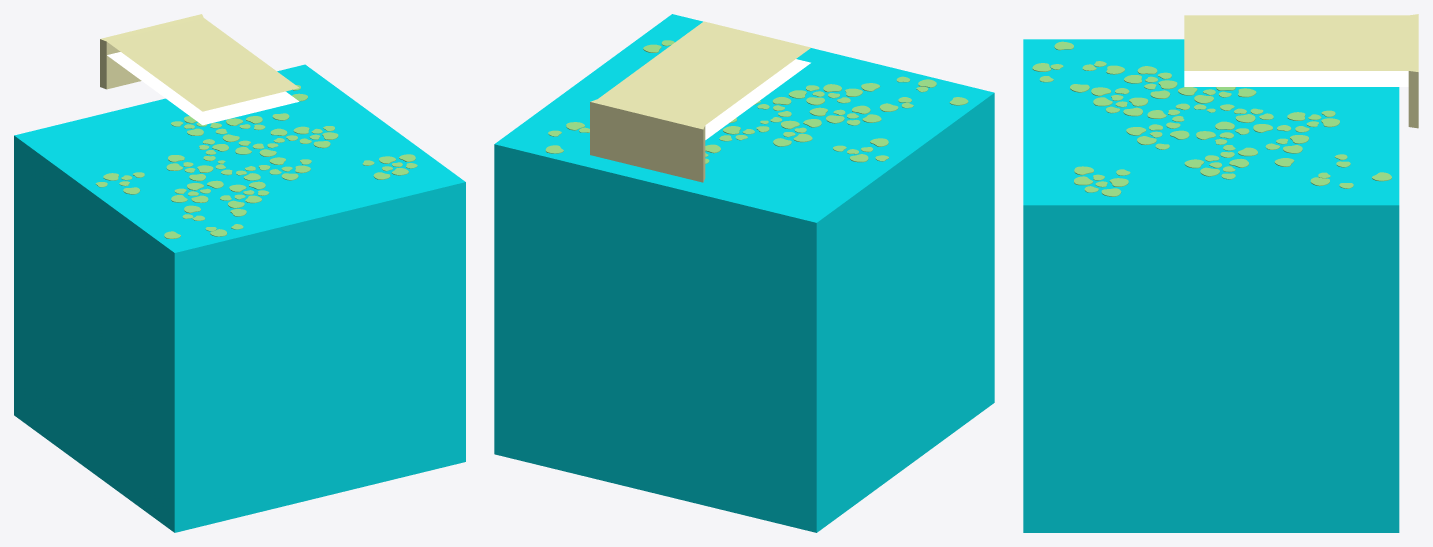
3 renders of one model, left to right at view 1: azimuth 30°, elevation 25°; view 2: azimuth 150°, elevation 25°; view 3: azimuth 270°, elevation 25°, orthographic. The views are drawn at different scales.
Parts seen in each view (by area): view 1: Floor, Tank Light; view 2: Floor, Tank Light; view 3: Floor, Tank Light.
Boxes of the visible parts, left/top/right/bottom form: Floor: left=14, top=64, right=465, bottom=532; Tank Light: left=100, top=14, right=299, bottom=125; Floor: left=494, top=14, right=994, bottom=532; Tank Light: left=590, top=21, right=810, bottom=182; Floor: left=1023, top=39, right=1399, bottom=532; Tank Light: left=1184, top=14, right=1418, bottom=128.
Size of what is drawn, in the model's own units: 767 by 874 by 771.
